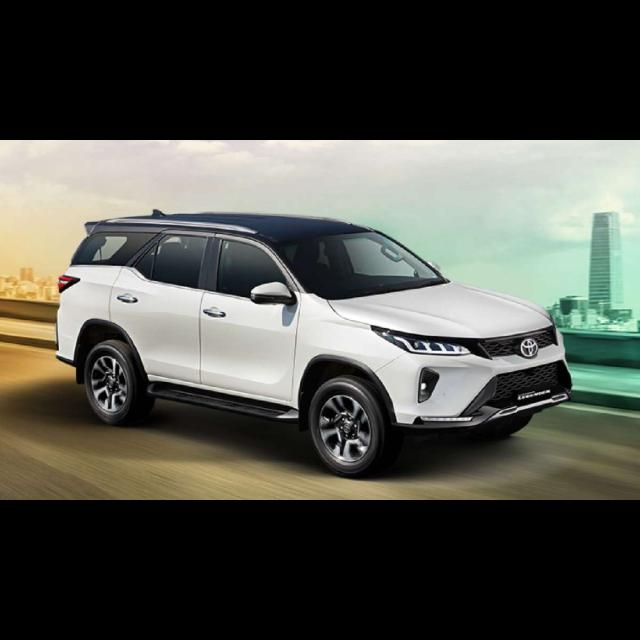number-plate: (516, 387, 554, 402)
vehicles: (56, 207, 575, 478)
